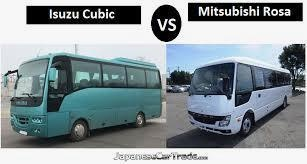bus: (9, 52, 164, 142), (186, 58, 291, 137)
